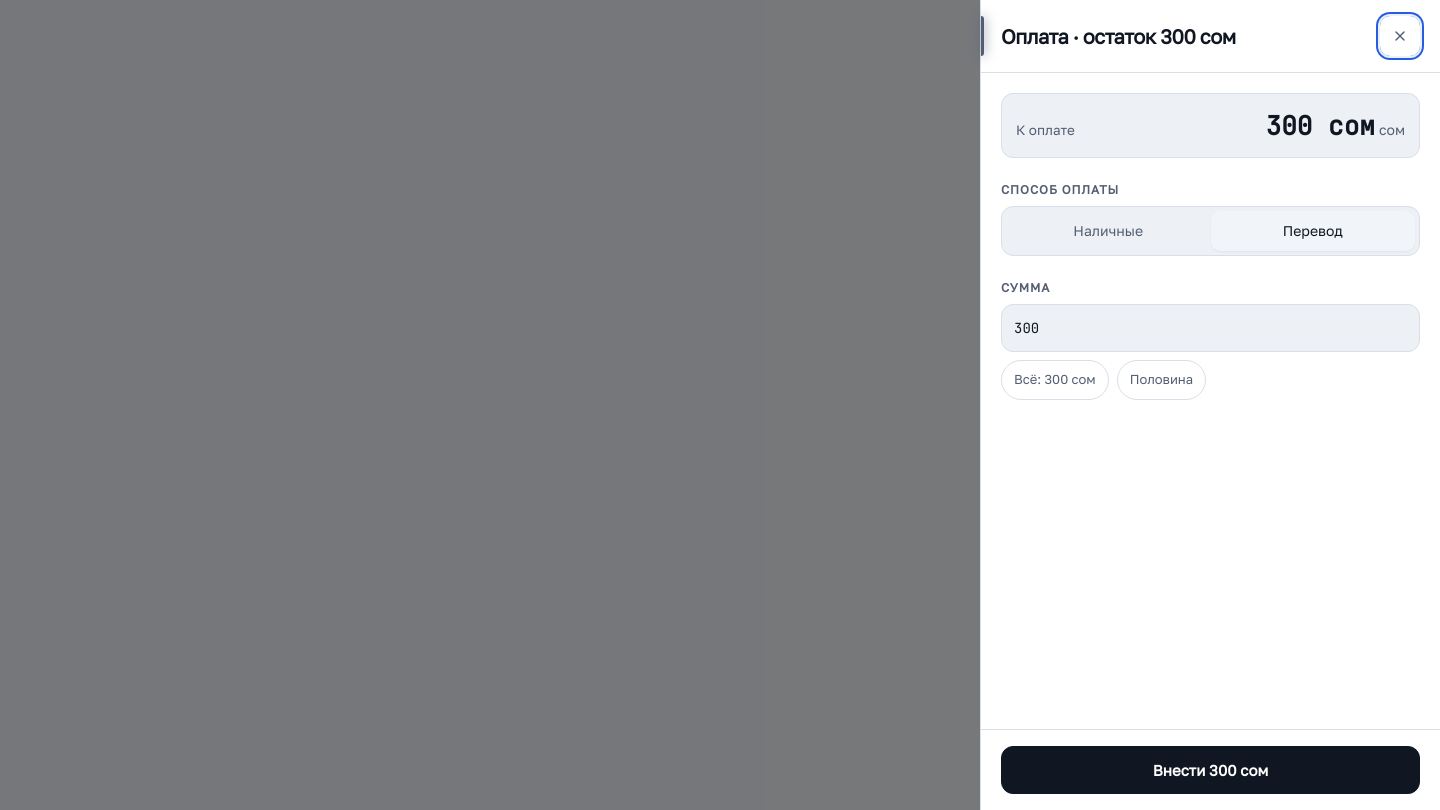
Test: PaymentDialog › shows an error message when the payment request fails
Replace the text in the number field labelled "Сумма" with "100". click: (1210, 328)
box: [1001, 304, 1420, 352]
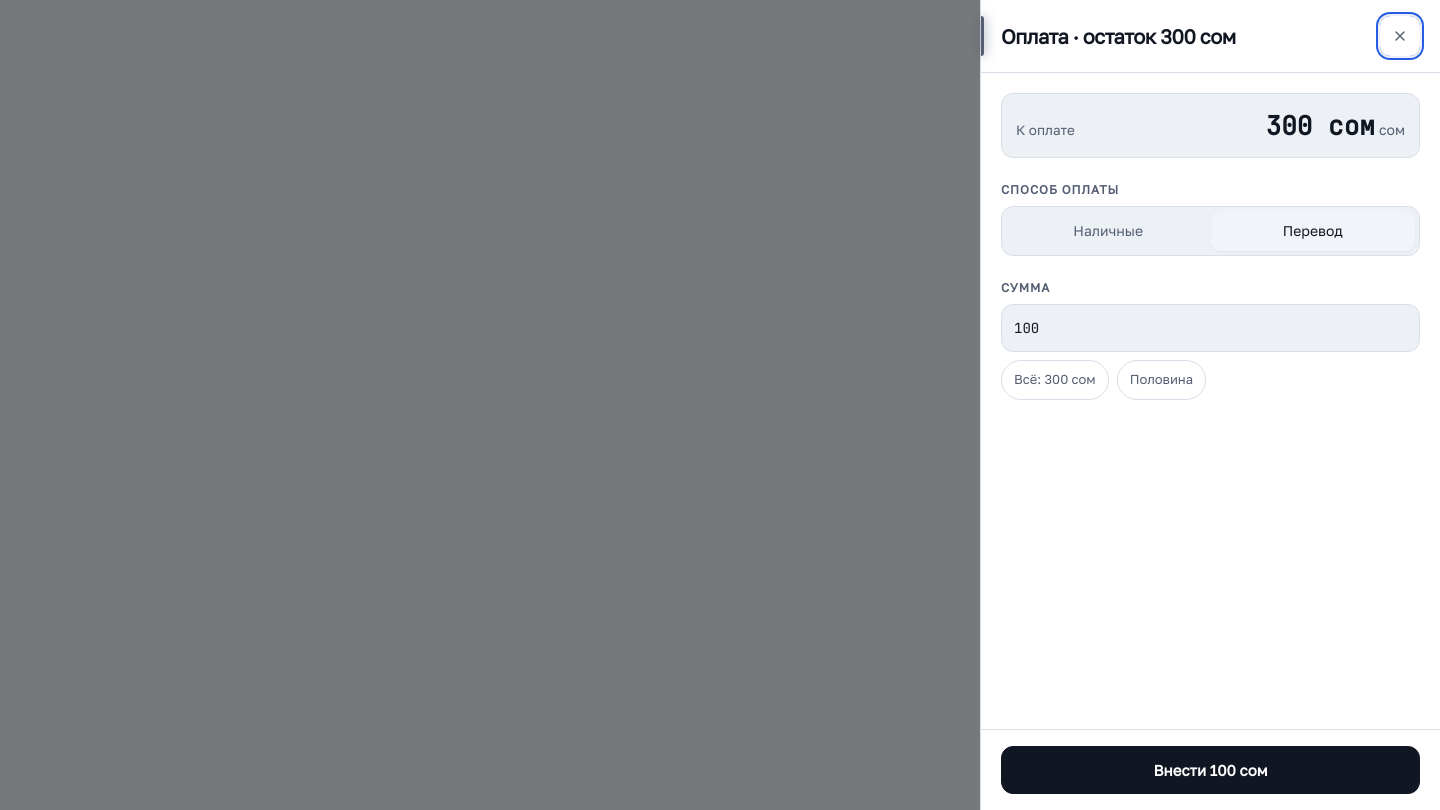
Click the button "Наличные". click: (1108, 231)
box: [1006, 211, 1210, 251]
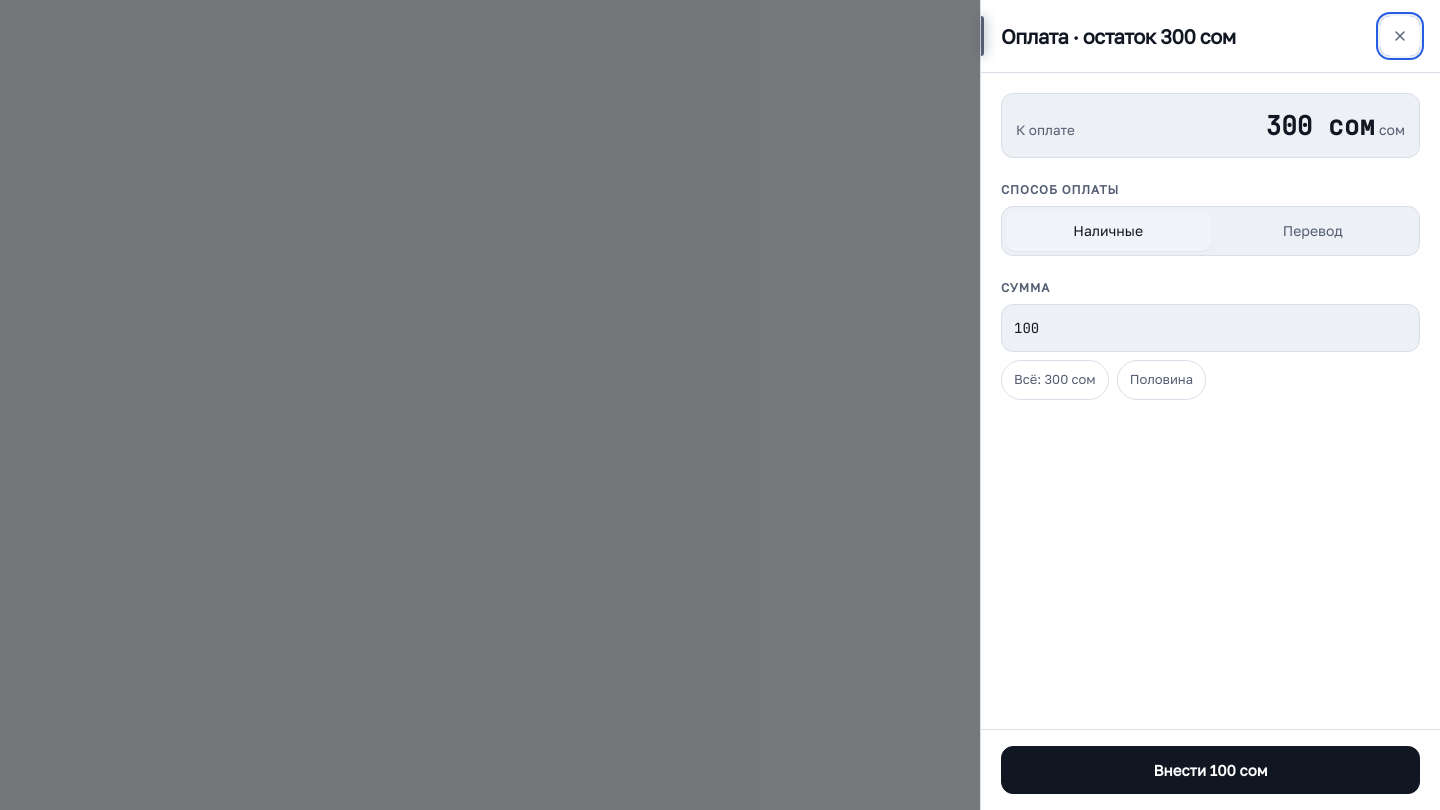
Click the button "Внести 100 сом". click: (1210, 770)
box: [1001, 746, 1420, 794]
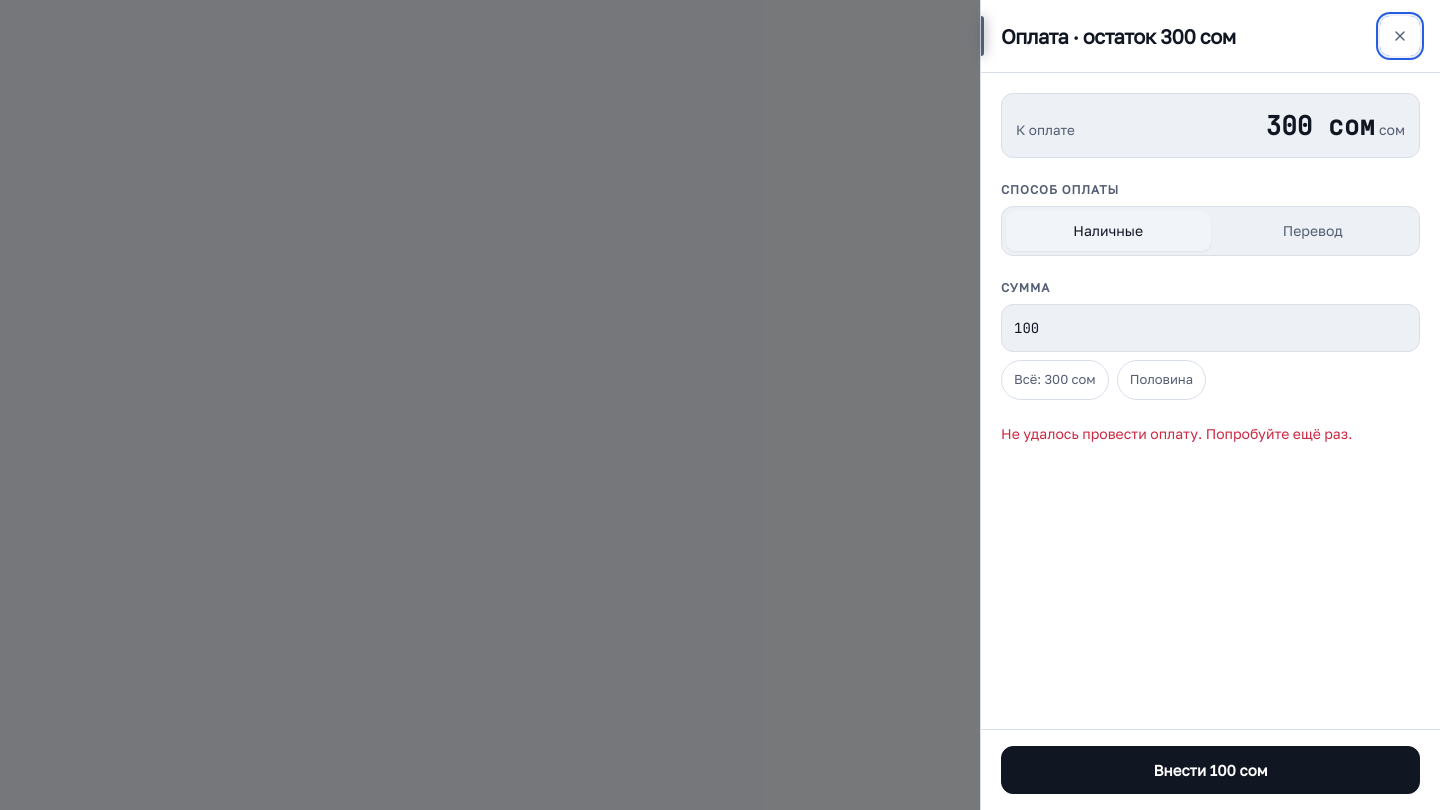
Now the text "Не удалось провести оплату. Попробуйте ещё раз." is shown, box [1001, 425, 1352, 442]
